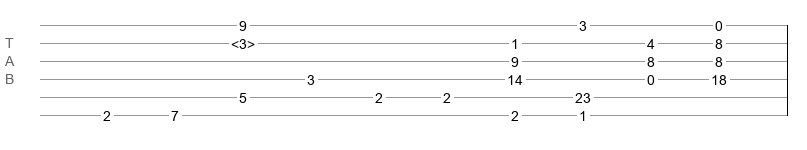0: (647, 72, 655, 82), (715, 18, 723, 28)
1: (511, 36, 519, 46), (579, 108, 587, 118)
14: (507, 72, 523, 82)
18: (711, 72, 727, 82)
2: (103, 108, 111, 118), (375, 90, 383, 100), (443, 90, 451, 100), (511, 108, 519, 118)
23: (575, 90, 591, 100)
3: (307, 72, 315, 82), (579, 18, 587, 28)
4: (647, 36, 655, 46)
5: (239, 90, 247, 100)
7: (171, 108, 179, 118)
8: (647, 54, 655, 64), (715, 36, 723, 46), (715, 54, 723, 64)
9: (239, 18, 247, 28), (511, 54, 519, 64)
harmonic: (231, 36, 255, 46)
